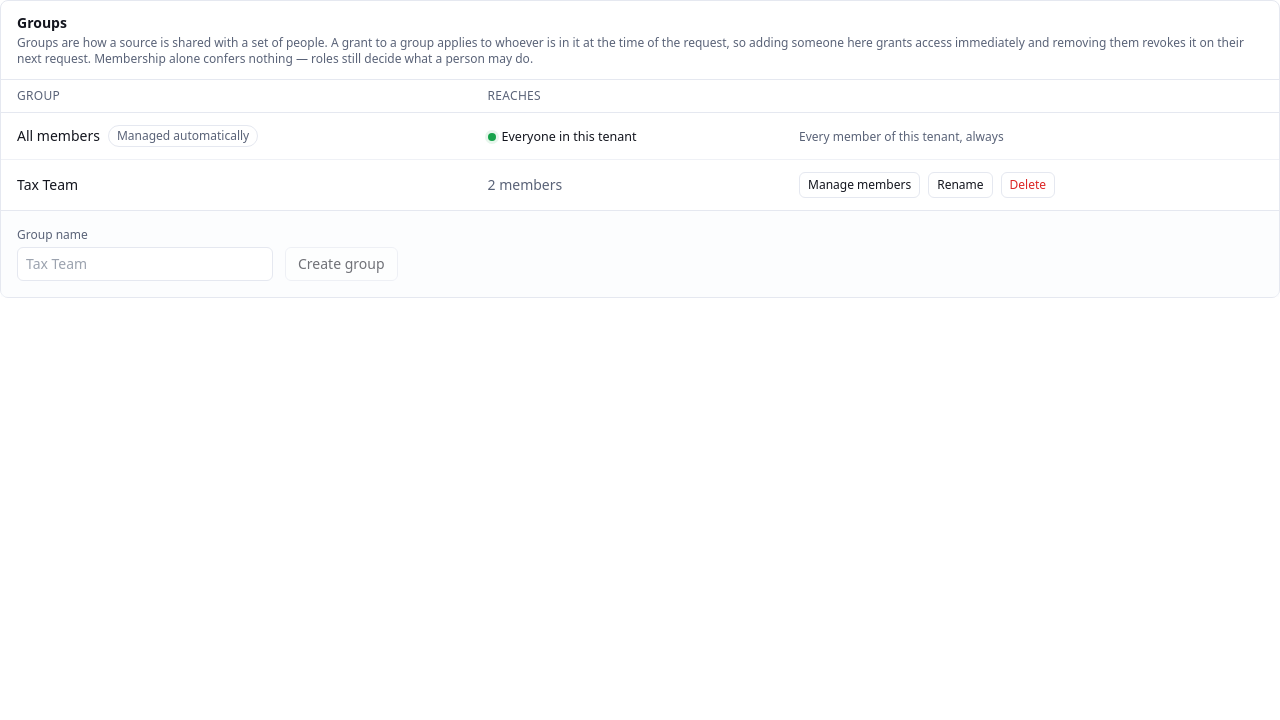
Scenario: GroupsPanel › treats a delete that 404s as the outcome the admin wanted
Expected: the text "Tax Team" is shown, [17, 175, 78, 195]
Click the button with aria-label "delete tax team".
click(1028, 185)  # box [1000, 172, 1055, 198]
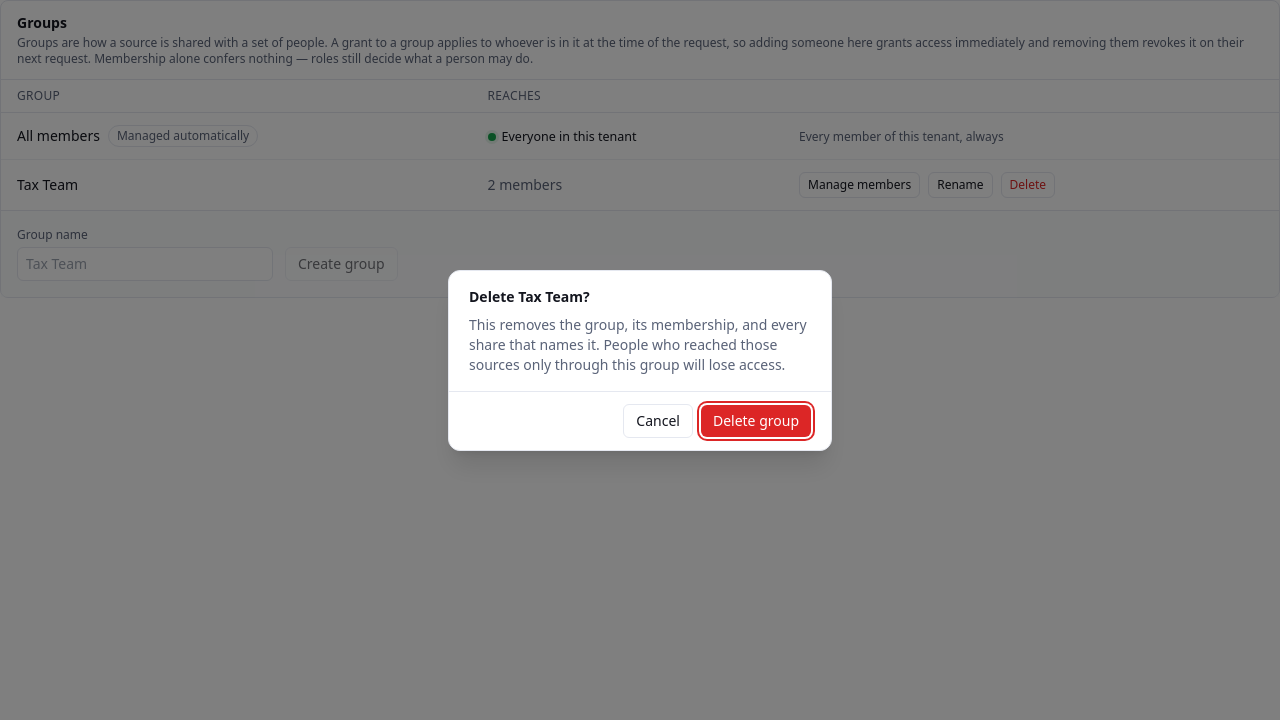
Click the button "Delete group".
click(756, 420)  # box [701, 404, 811, 436]
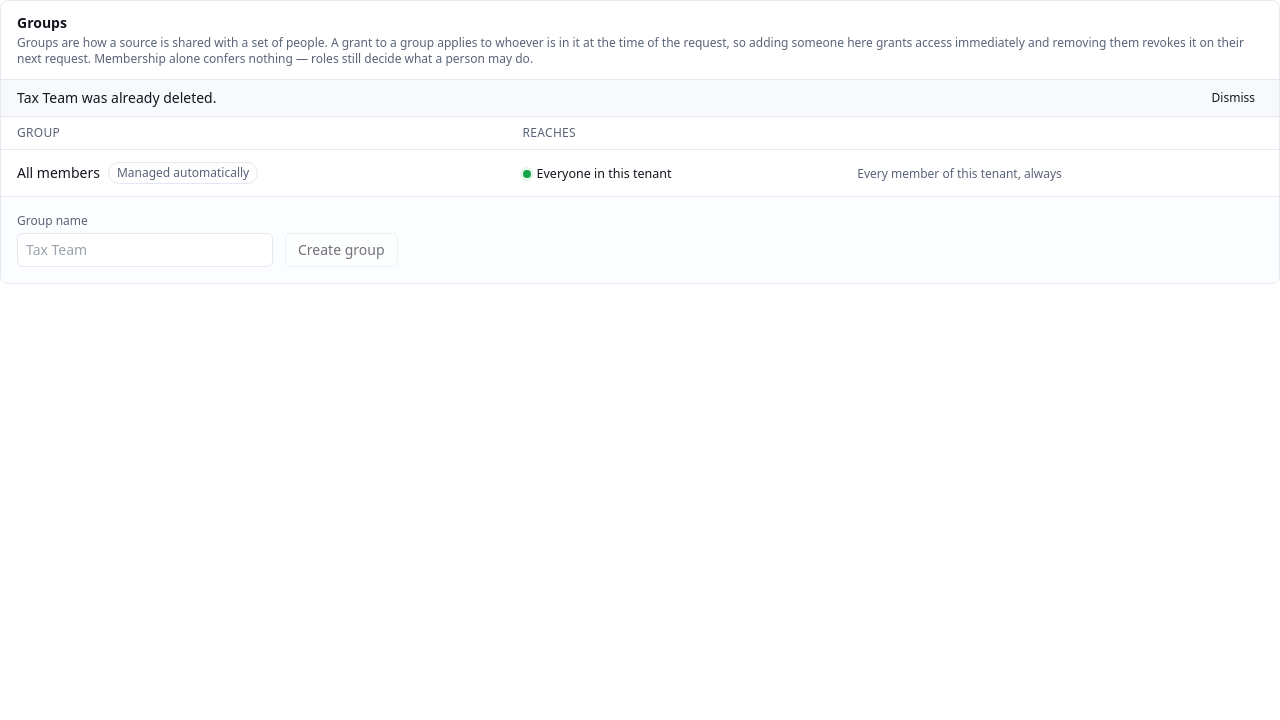
Expected: the text "Tax Team was already deleted." is shown, [17, 88, 216, 108]
Expected: the dialog is gone
